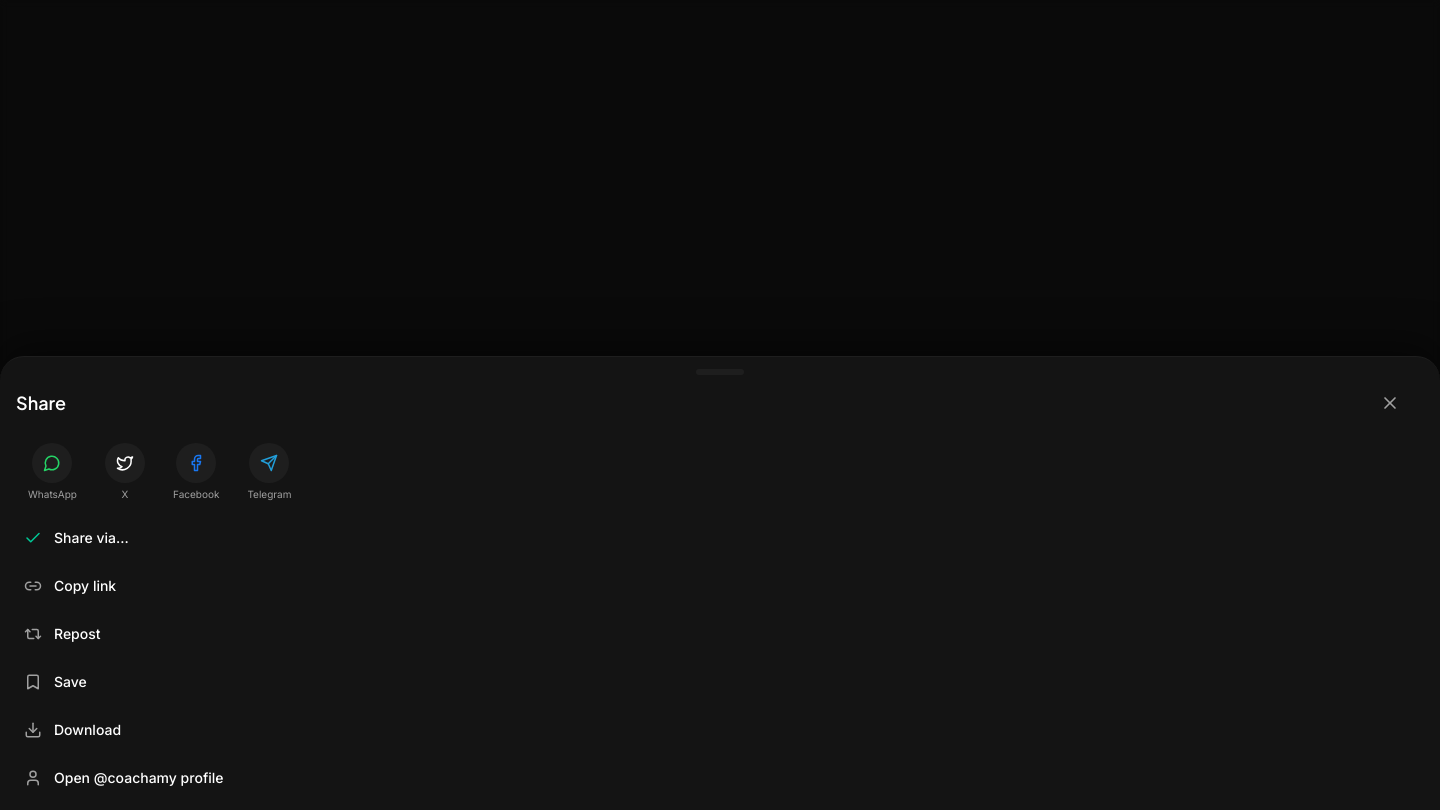
Test: PostShareSheet share action › records the share and reports the authoritative count on copy
Click the button with aria-label "Copy post link".
click(85, 586)  # box [8,562,1432,610]
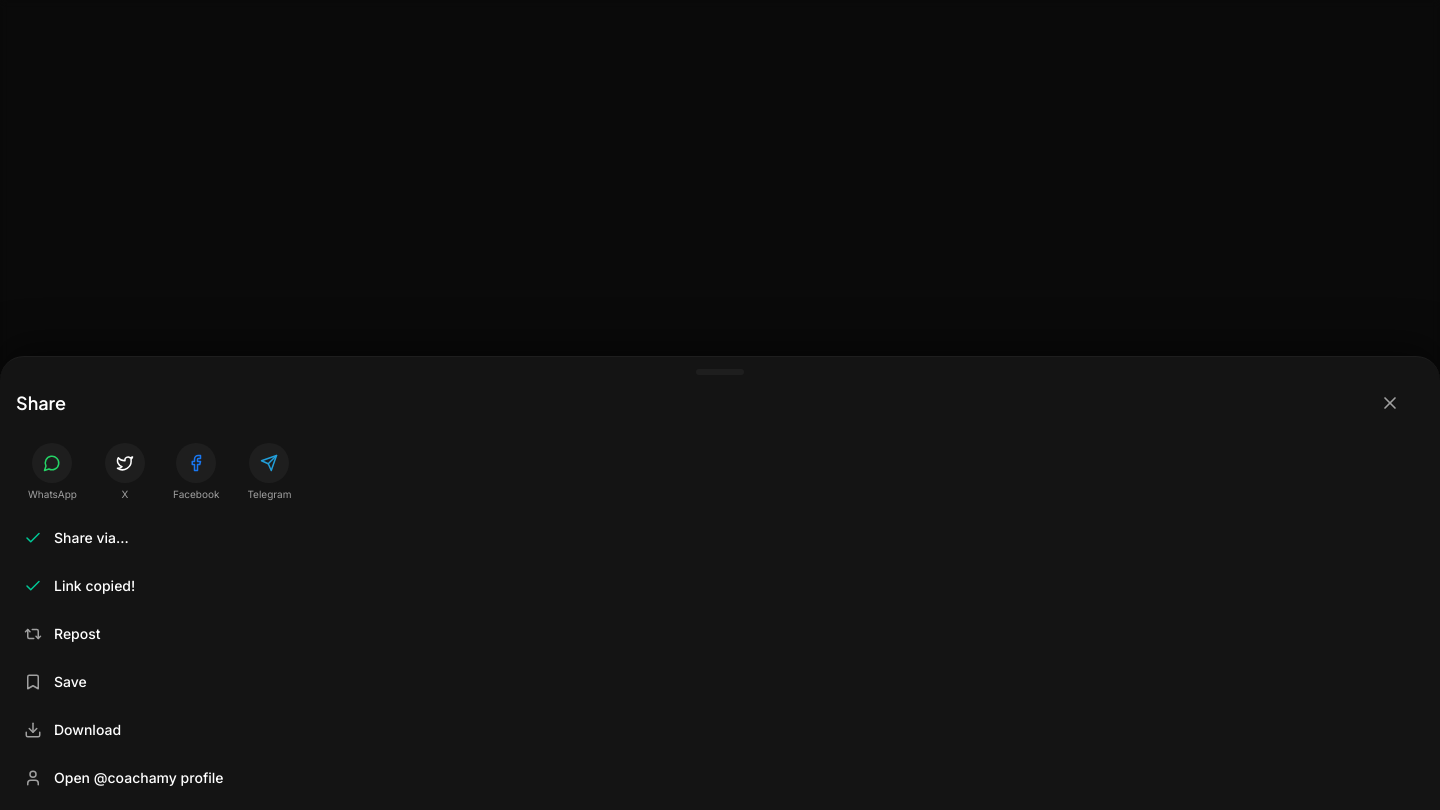
Expected: the text "Link copied!" is shown, [54,577,135,594]
